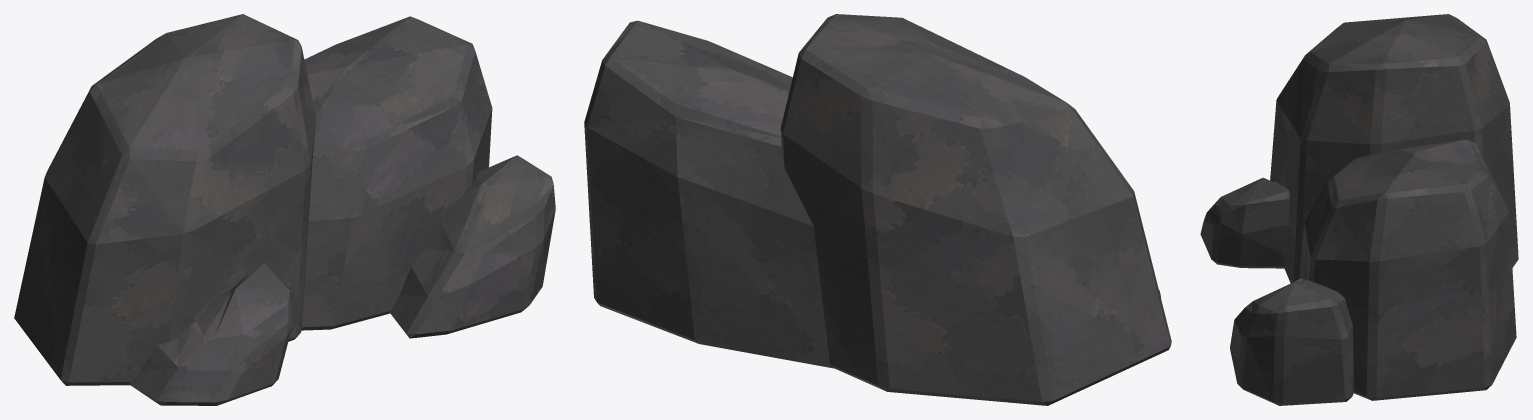
Rendered from slate-bank.glb.
The picture shows the model from 3 angles, left to right: view 1: azimuth 30°, elevation 25°; view 2: azimuth 150°, elevation 25°; view 3: azimuth 270°, elevation 25°; orthographic projection. The views are drawn at different scales.
Parts seen in each view (by area): view 1: slate-bank; view 2: slate-bank; view 3: slate-bank.
Part boxes in pixels (x1,y1,x2,y2): slate-bank: [14, 14, 555, 405]; slate-bank: [584, 14, 1171, 405]; slate-bank: [1200, 14, 1518, 405].
Bounding box in the file's own units: 3.19 × 1.66 × 1.9.
3 materials, 3 textured.
